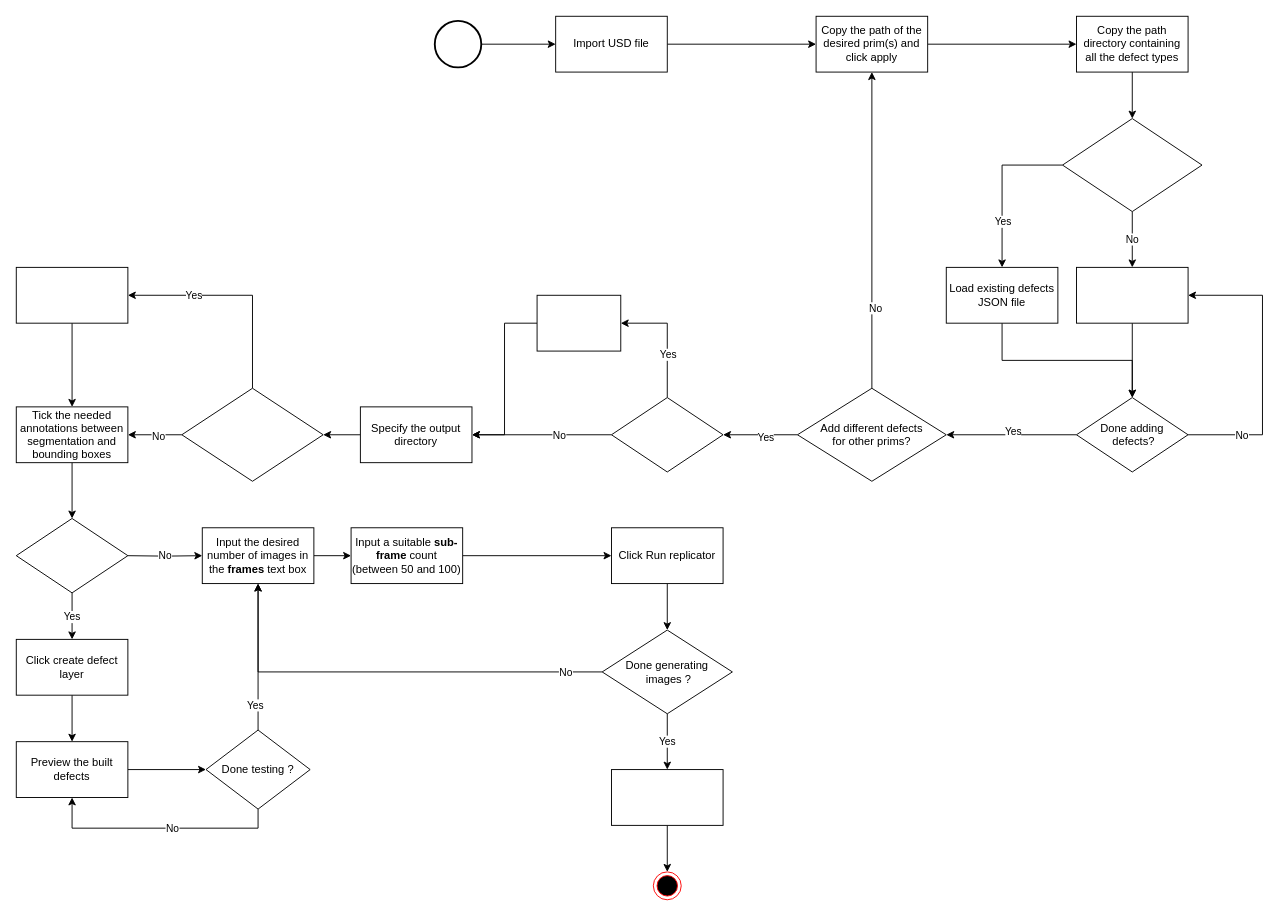
This 1286x916 diagram has some shape labels left out. The shapes that lost their labels are listed below. From the top down, each one's box as (x1, y1, x2, y2) in pixels, then its label:
(1062, 118, 1202, 212): Use existing defects JSON file?
(15, 266, 128, 323): Check the BMW format box
(1076, 266, 1188, 323): Add a defect type and customize its count and randomization
(536, 294, 621, 351): Export defects list
(181, 387, 323, 481): Needed BMW output format ?
(611, 397, 723, 472): Save defects list?
(15, 518, 128, 593): Test defects ?
(611, 769, 723, 825): Save scene if required
